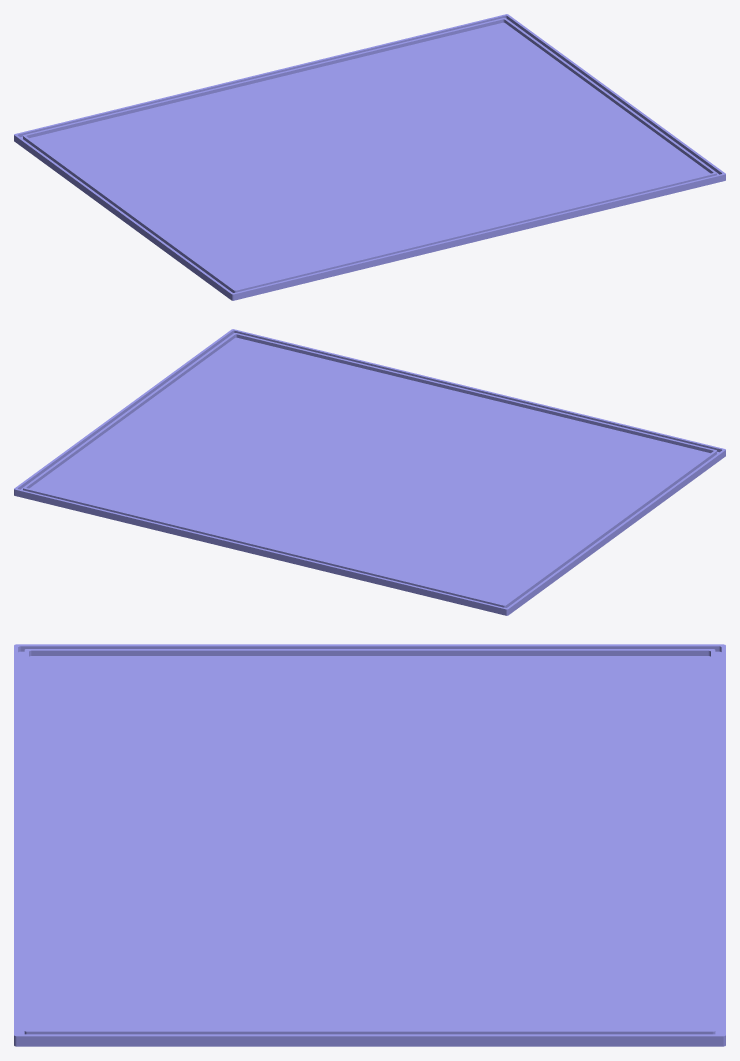
File: PartBody 19.FBX
3 views of the same model, one above another, from view 1: azimuth 30°, elevation 25°; view 2: azimuth 150°, elevation 25°; view 3: azimuth 270°, elevation 25° (orthographic). The views are drawn at different scales.
Parts seen in each view (by area): view 1: PartBody; view 2: PartBody; view 3: PartBody.
Boxes of the visible parts, x1,y1,x2,y2 form: PartBody: (14,14,725,300); PartBody: (14,329,725,615); PartBody: (14,644,725,1046).
Size of the model in its own units: 318 by 244 by 3.9.
